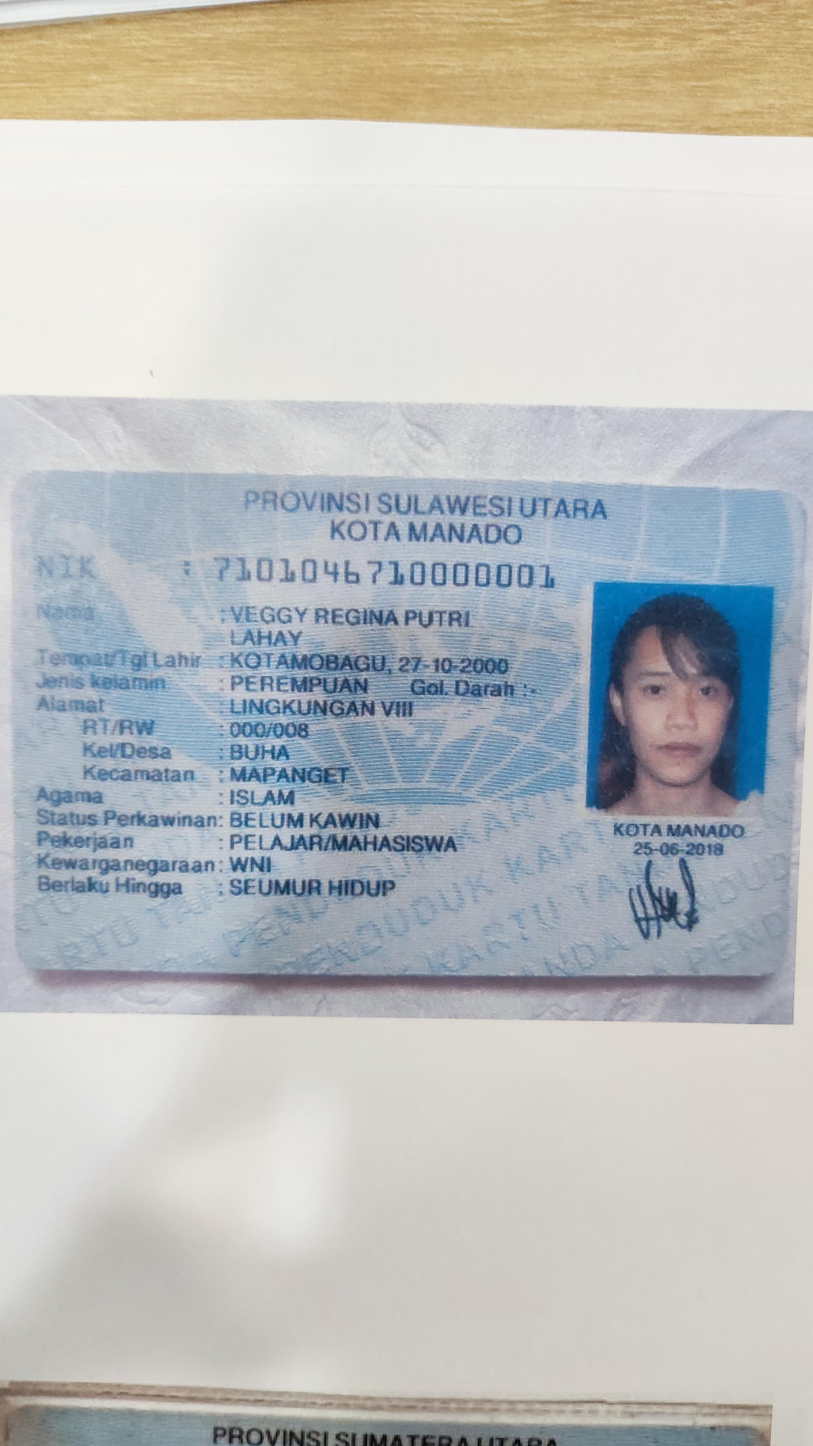ID-card: (19, 490, 773, 971)
